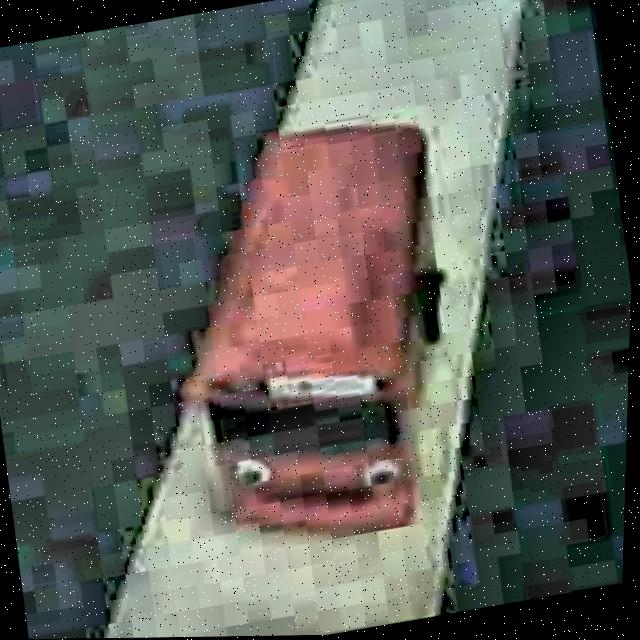bus: (137, 105, 489, 566)
